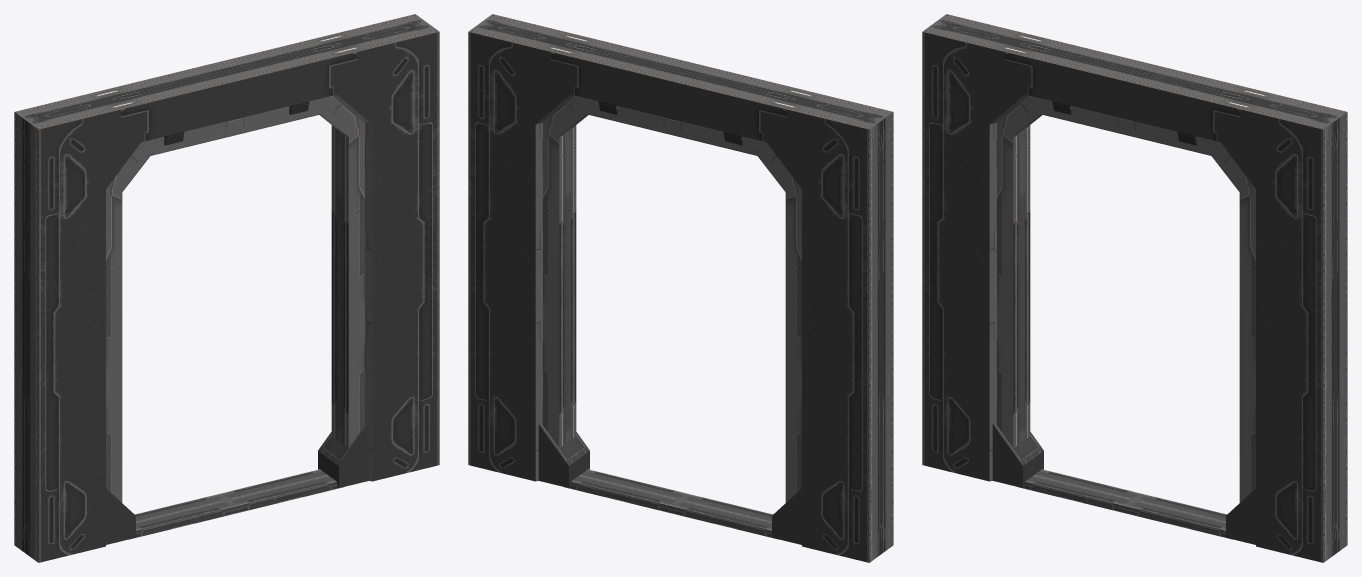
Rendered from door_frame_square_tall.glb.
3 views of the same model, side by side, from view 1: azimuth 30°, elevation 25°; view 2: azimuth 150°, elevation 25°; view 3: azimuth 330°, elevation 25° (orthographic).
Parts seen in each view (by area): view 1: Door_Frame_SquareTall; view 2: Door_Frame_SquareTall; view 3: Door_Frame_SquareTall.
Part boxes in pixels (bbox=[...]): Door_Frame_SquareTall: bbox=[14, 14, 439, 562]; Door_Frame_SquareTall: bbox=[468, 14, 893, 562]; Door_Frame_SquareTall: bbox=[922, 14, 1347, 562].
Size of the model in its own units: 4.84 by 5.01 by 0.5068.
Materials: 1 (1 with a texture image).
